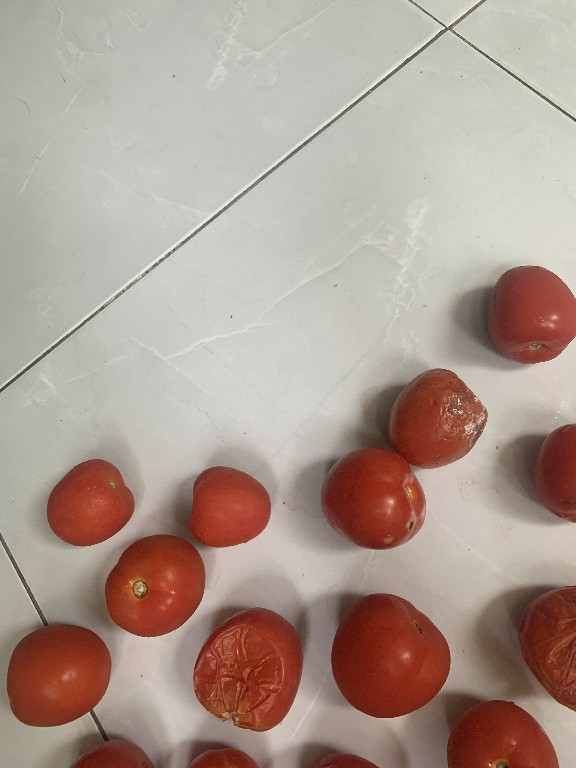NG: (188, 605, 304, 732), (312, 444, 433, 552), (379, 363, 486, 467), (513, 582, 575, 716)
OK: (319, 591, 454, 723), (4, 616, 115, 733), (481, 255, 576, 372), (95, 536, 204, 634), (38, 452, 136, 554), (177, 460, 276, 559), (440, 699, 569, 768)
